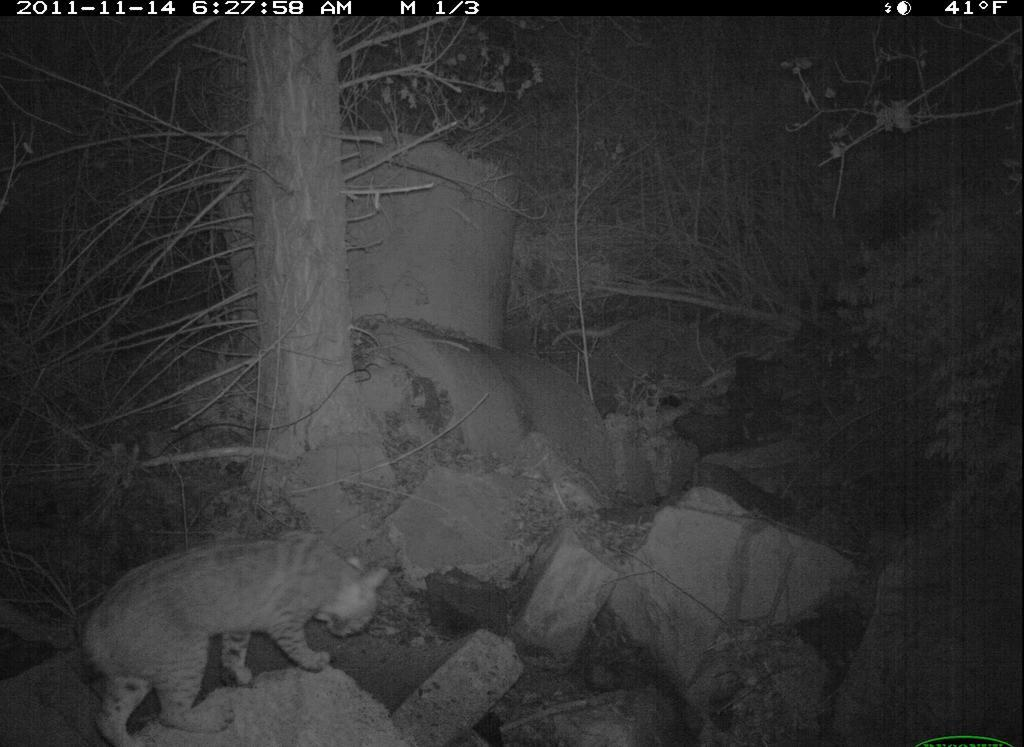bobcat: (73, 530, 404, 747)
